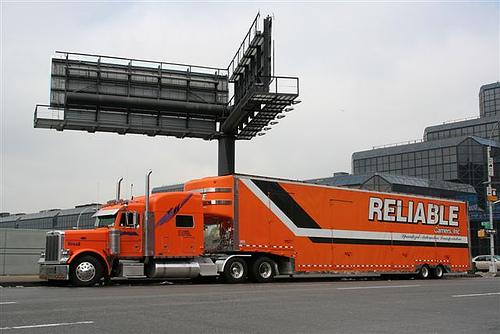truck: (37, 169, 477, 288)
